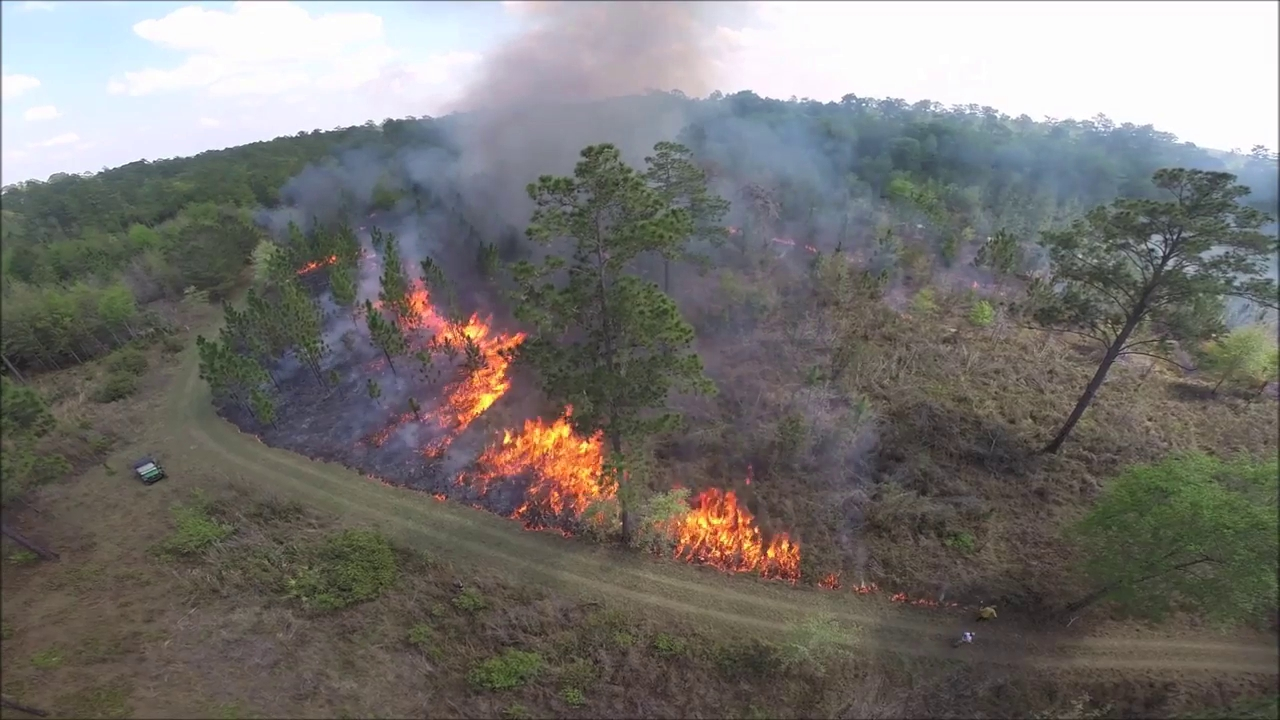forest_fire: (398, 280, 524, 454), (459, 406, 619, 527), (648, 488, 798, 577), (296, 254, 345, 274)
